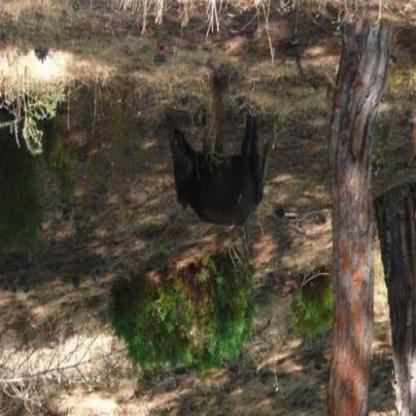boar: (157, 87, 288, 246)
